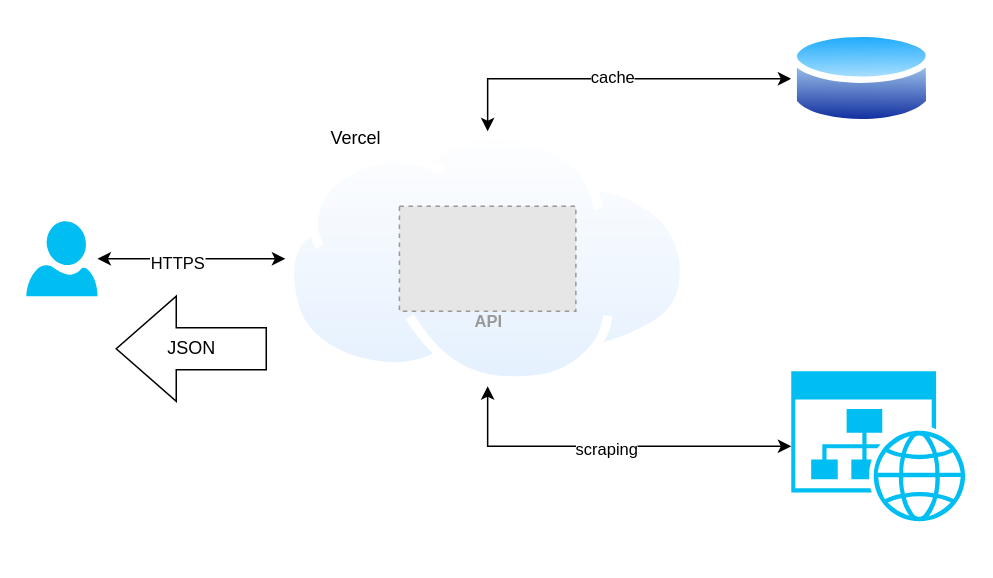
This 993x578 diagram has some shape labels left out. Grey dashed boxes stand in for pictures. The centre of each missing label's shape, as x and y in pixels:
Neon (Postgres): the point at 861,78
Site EMBRAPA: the point at 878,445
